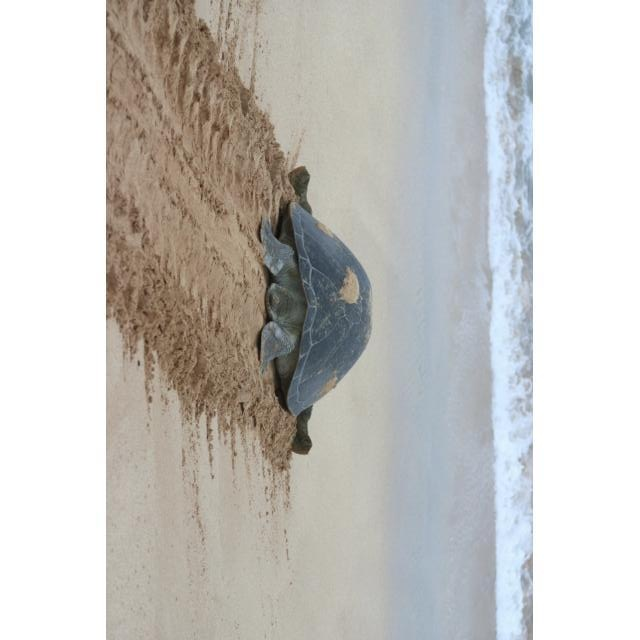turtle: (255, 165, 373, 455)
